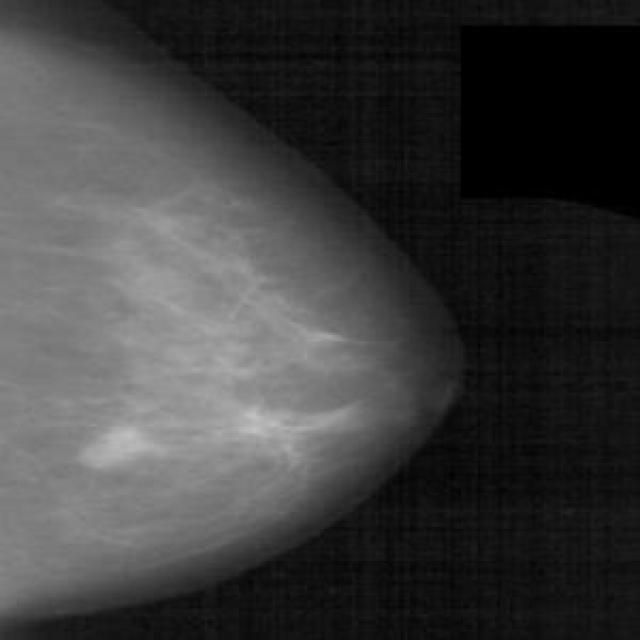tumor: (63, 388, 411, 486)
